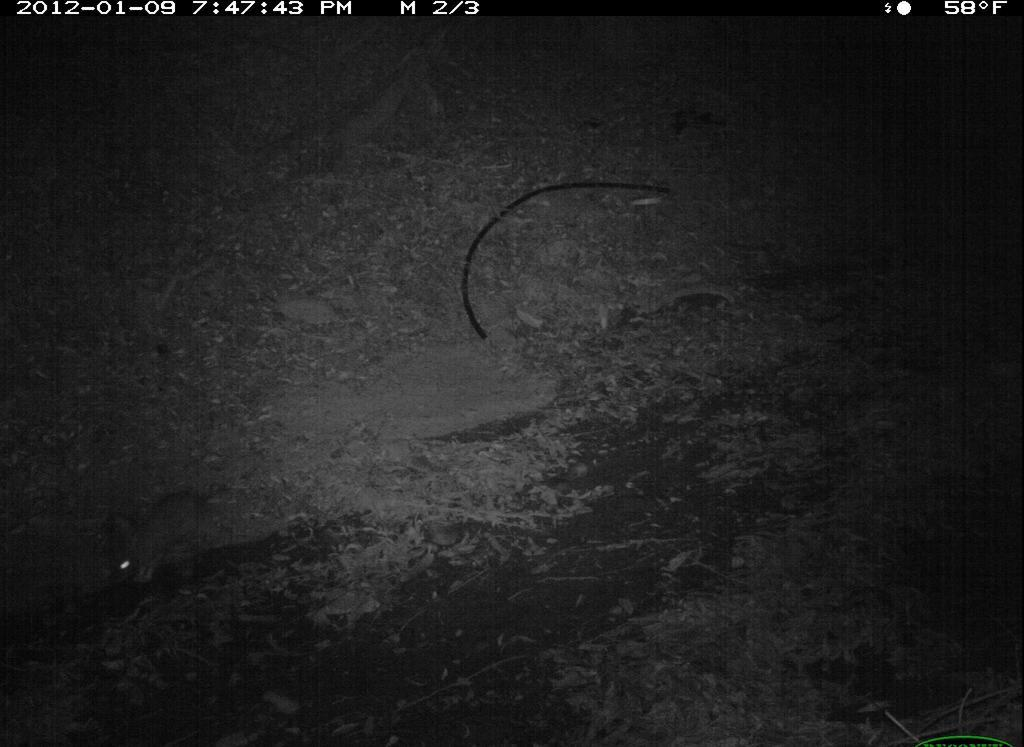rabbit: (85, 481, 264, 606)
